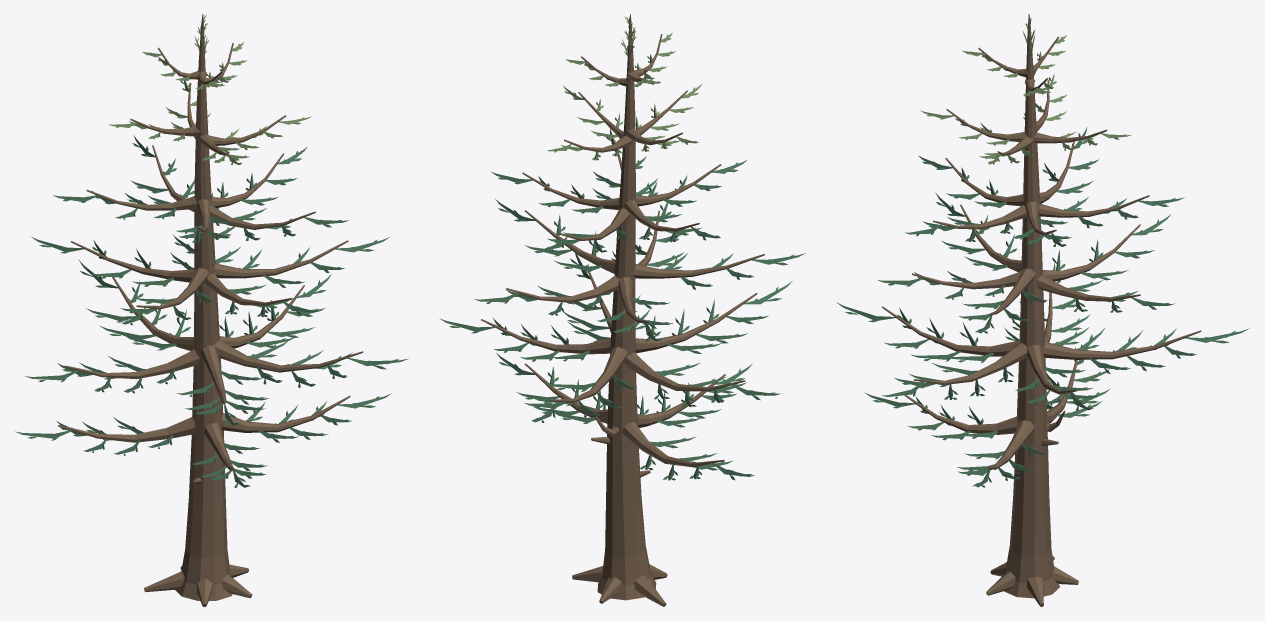
File: conifer-tree.glb
3 renders of one model, left to right at view 1: azimuth 30°, elevation 25°; view 2: azimuth 150°, elevation 25°; view 3: azimuth 270°, elevation 25°, orthographic.
Visible parts, largest first — view 1: Conifer | editable woody axis boughs and collars, Conifer | clustered narrow needle-bearing shoots; view 2: Conifer | editable woody axis boughs and collars, Conifer | clustered narrow needle-bearing shoots; view 3: Conifer | editable woody axis boughs and collars, Conifer | clustered narrow needle-bearing shoots.
Part boxes in pixels (box(x1,y1,x2,y2)): Conifer | editable woody axis boughs and collars: box(58, 14, 363, 606); Conifer | clustered narrow needle-bearing shoots: box(15, 14, 408, 487); Conifer | editable woody axis boughs and collars: box(481, 14, 764, 606); Conifer | clustered narrow needle-bearing shoots: box(439, 16, 805, 480); Conifer | editable woody axis boughs and collars: box(881, 14, 1201, 606); Conifer | clustered narrow needle-bearing shoots: box(836, 17, 1249, 487).
Bounding box in the file's own units: 4.19 × 7.04 × 4.65.
